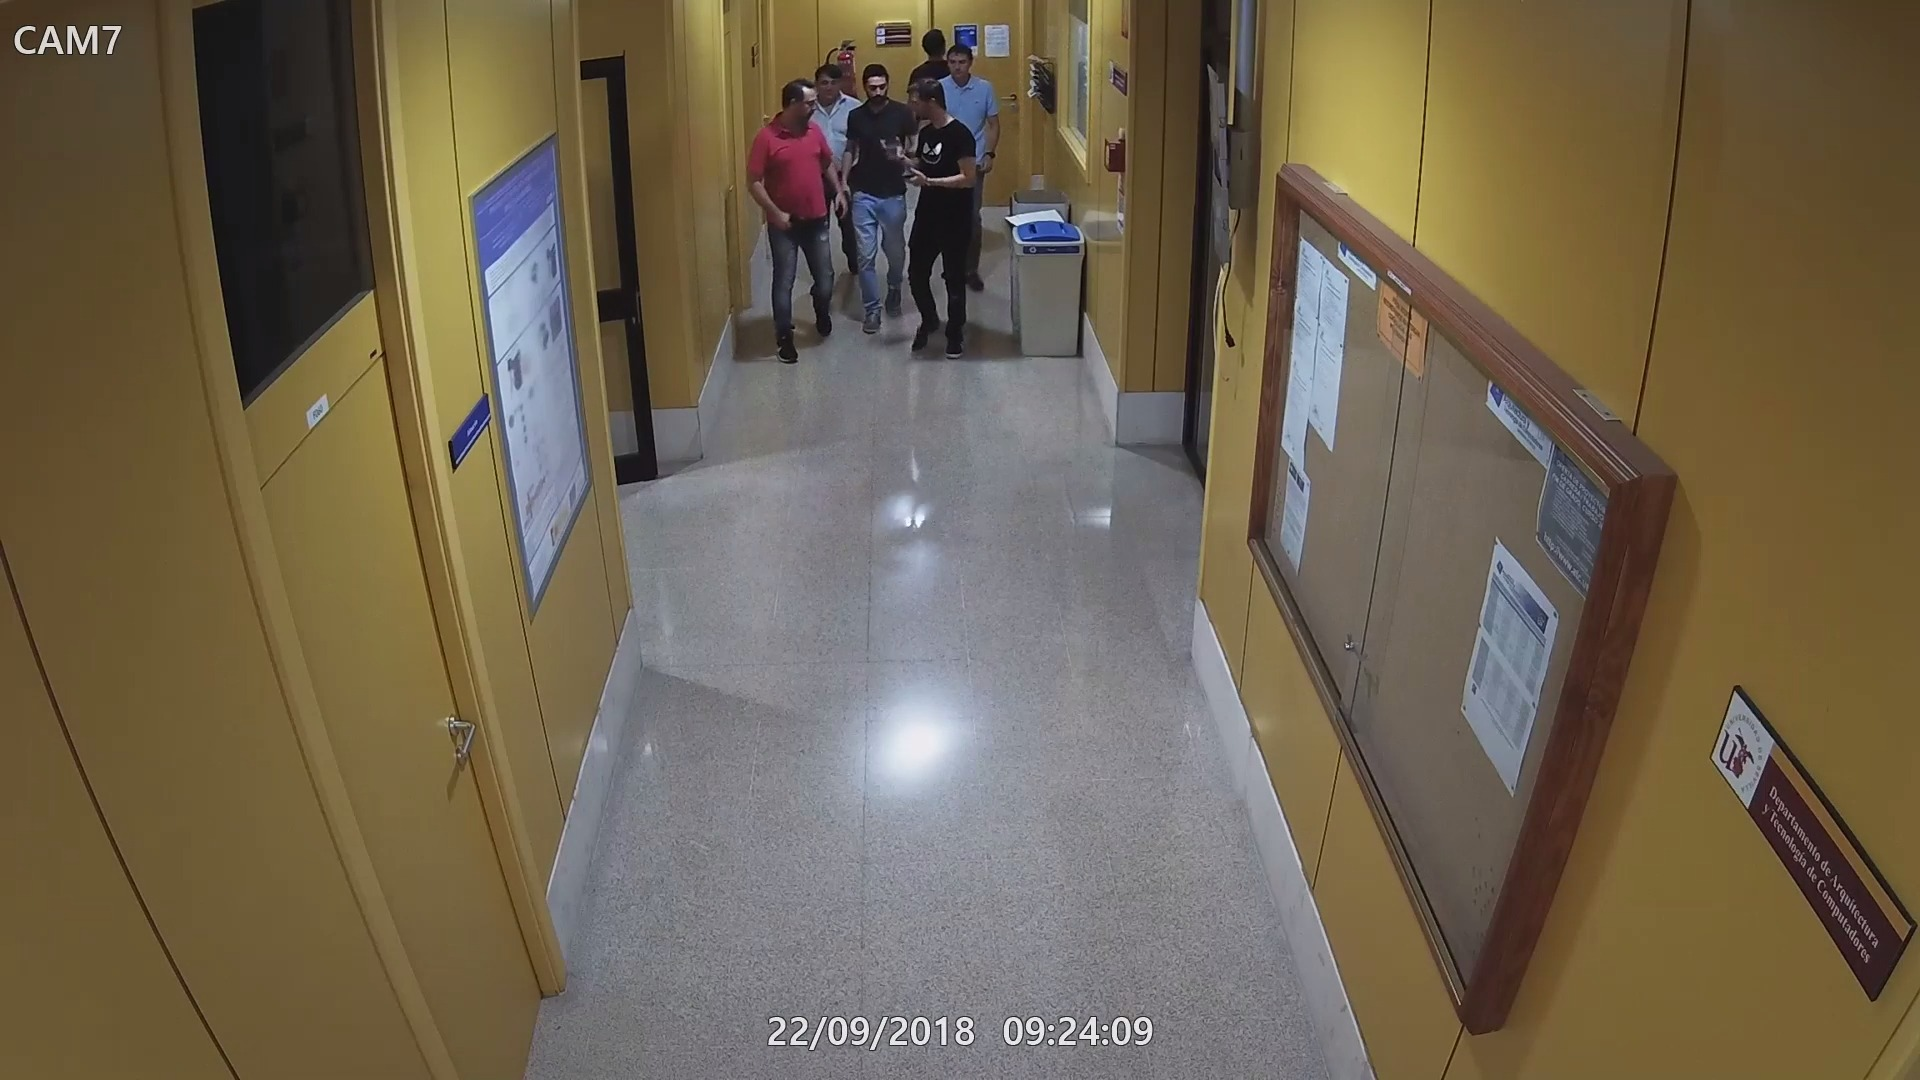Handgun: (774, 208, 807, 233), (833, 181, 860, 207)
